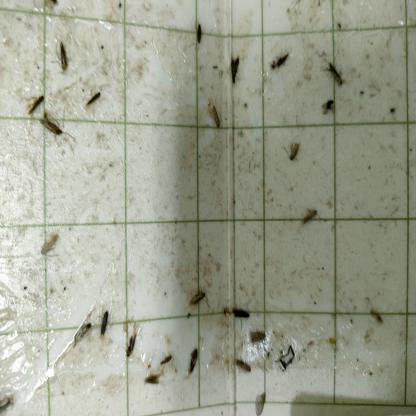prays_oleae: (38, 217, 62, 273), (66, 309, 97, 350), (300, 200, 322, 244), (182, 286, 210, 315), (82, 83, 104, 117), (225, 50, 244, 89), (52, 40, 72, 75), (274, 42, 293, 77), (122, 332, 137, 376), (24, 88, 50, 113), (326, 56, 347, 86), (183, 348, 201, 382), (320, 92, 338, 124), (249, 324, 271, 350), (38, 116, 61, 140), (97, 310, 111, 346), (194, 15, 208, 50), (283, 140, 304, 163), (233, 358, 257, 378), (208, 101, 222, 134), (228, 309, 255, 324), (139, 373, 161, 391), (157, 349, 172, 367)
